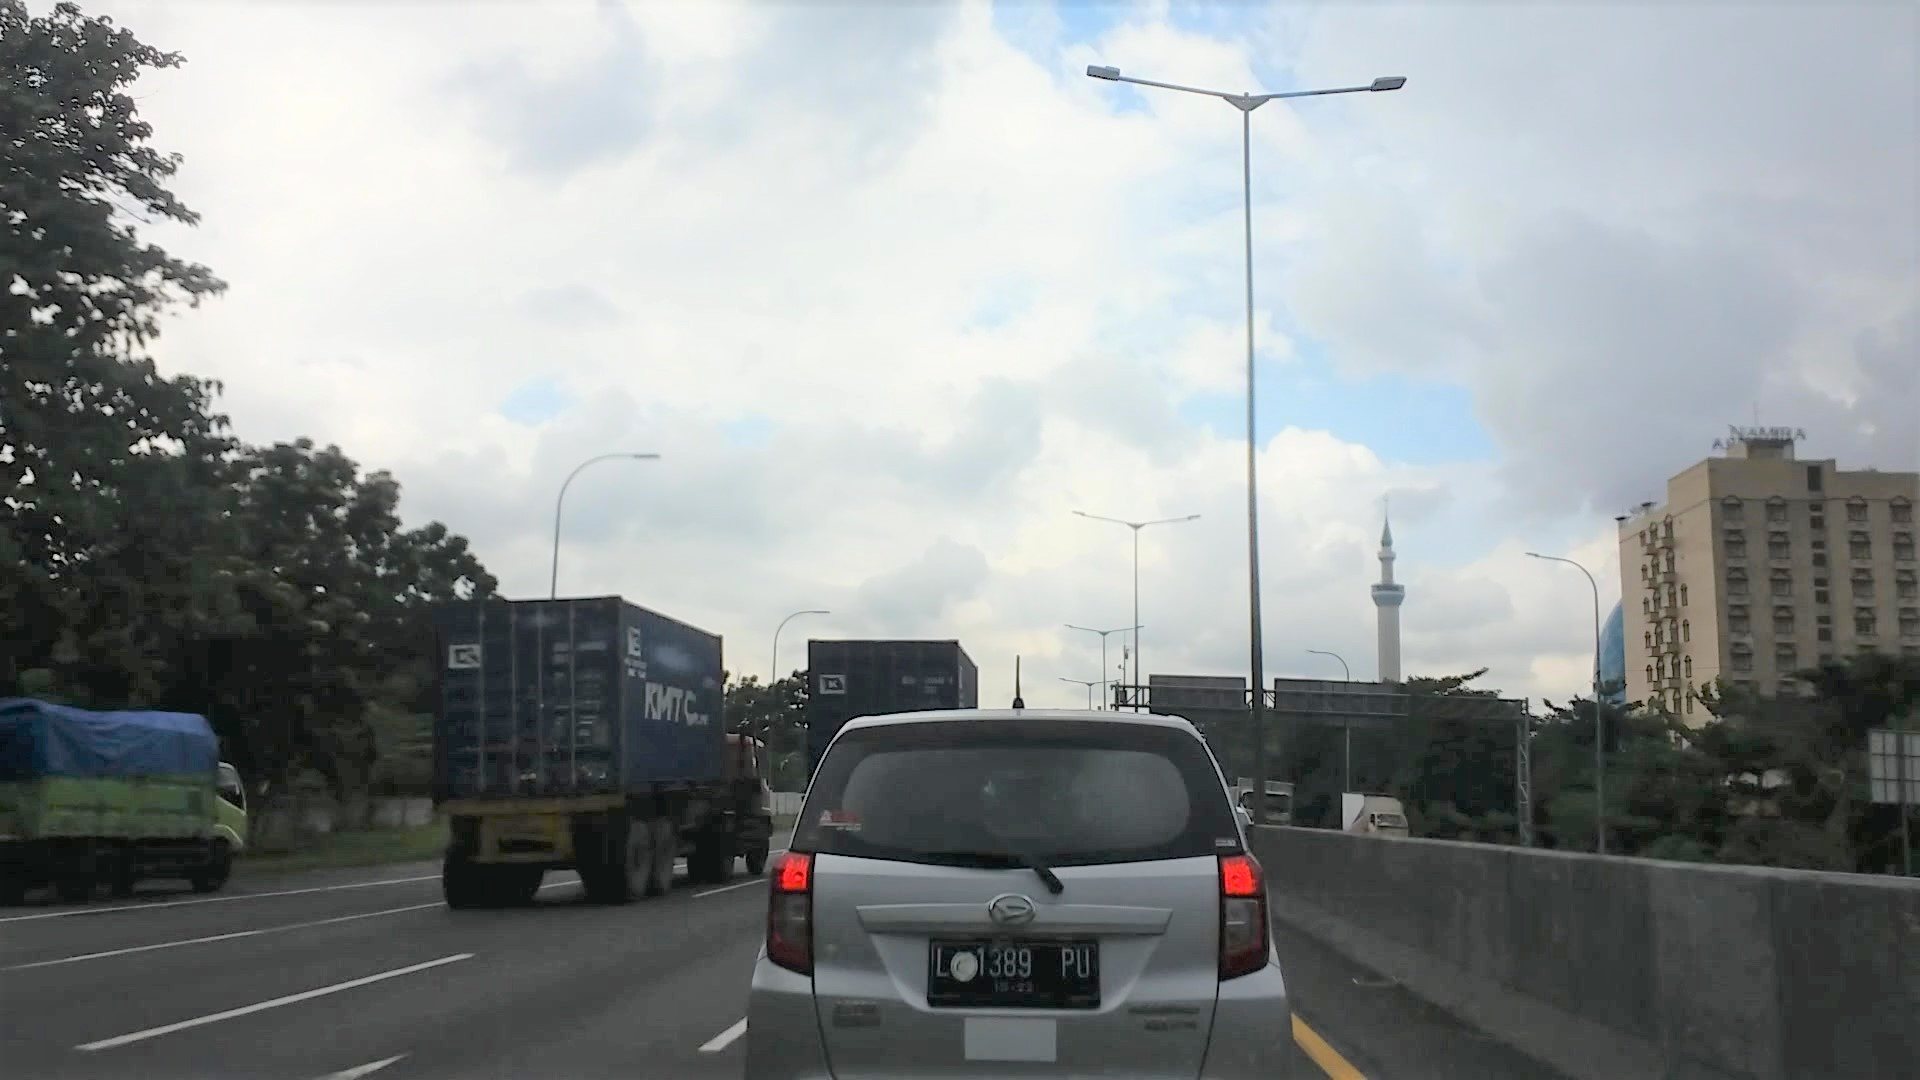plate_positive: (927, 938, 1100, 1009)
